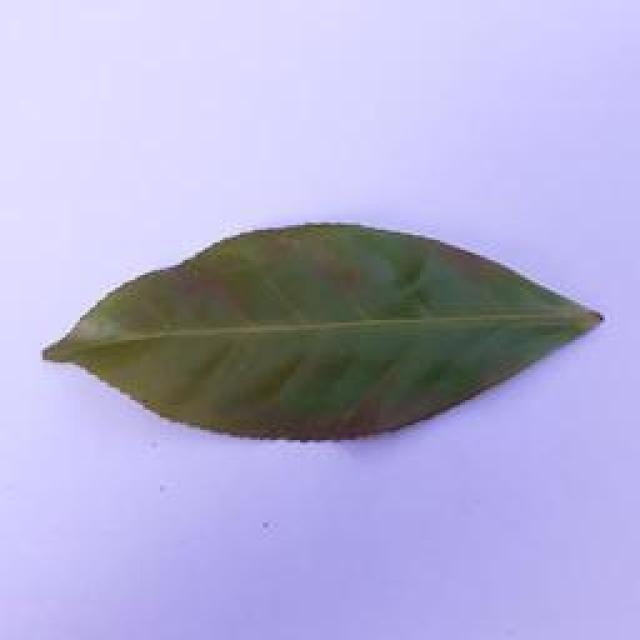Red Leaf Spot: (35, 225, 640, 455)
